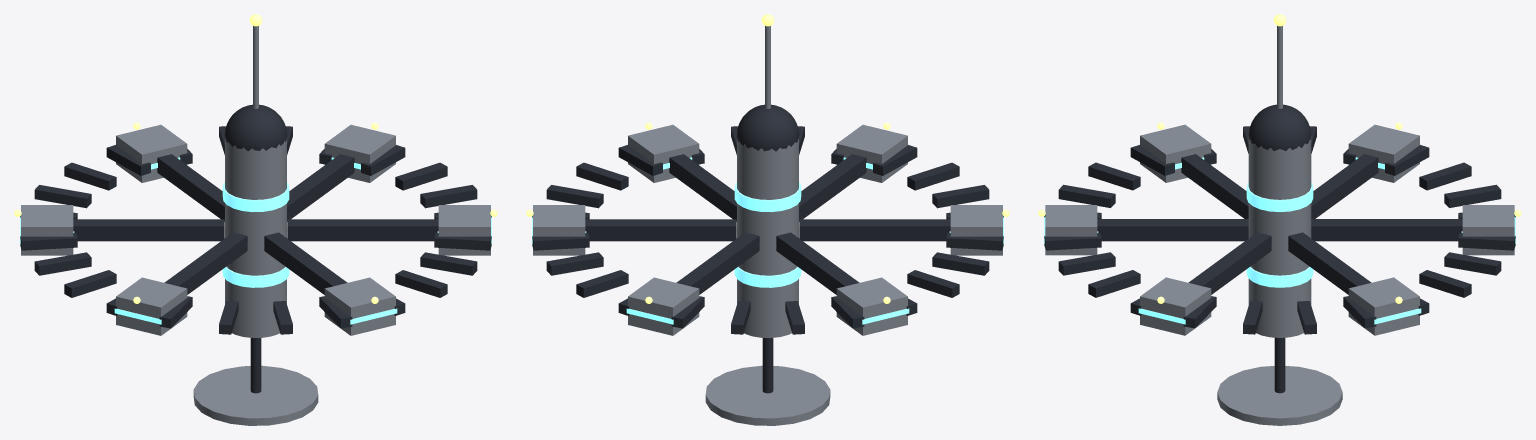
The model's file is kepler_station.glb.
3 views of the same model, side by side, from view 1: azimuth 30°, elevation 25°; view 2: azimuth 150°, elevation 25°; view 3: azimuth 270°, elevation 25° (orthographic).
Parts seen in each view (by area): view 1: hub, dish, arm2, arm5, pod0, pod1, dome, pod3, pod4, pod2, pod5, arm0 (+23 smaller); view 2: hub, dish, arm1, arm4, pod2, pod3, dome, pod0, pod5, pod1, pod4, arm2 (+23 smaller); view 3: hub, dish, arm0, arm3, pod4, pod5, dome, pod1, pod2, pod0, pod3, arm4 (+23 smaller).
Boxes of the visible parts, x1,y1,x2,y2 form: hub: [225, 138, 286, 337]; dish: [193, 365, 318, 425]; arm2: [73, 219, 224, 241]; arm5: [287, 219, 438, 241]; pod0: [324, 277, 395, 335]; pod1: [116, 277, 187, 335]; dome: [224, 104, 287, 151]; pod3: [116, 124, 187, 182]; pod4: [324, 124, 395, 182]; pod2: [21, 205, 73, 255]; pod5: [438, 205, 490, 255]; arm0: [264, 232, 347, 294]; hub: [737, 138, 798, 337]; dish: [705, 365, 830, 425]; arm1: [799, 219, 950, 241]; arm4: [585, 219, 736, 241]; pod2: [836, 277, 907, 335]; pod3: [628, 277, 699, 335]; dome: [736, 104, 799, 151]; pod0: [836, 124, 907, 182]; pod5: [628, 124, 699, 182]; pod1: [950, 205, 1002, 255]; pod4: [533, 205, 585, 255]; arm2: [776, 232, 859, 294]; hub: [1248, 136, 1311, 337]; dish: [1217, 366, 1342, 425]; arm0: [1097, 219, 1248, 241]; arm3: [1311, 219, 1462, 241]; pod4: [1348, 277, 1419, 335]; pod5: [1140, 277, 1211, 335]; dome: [1248, 104, 1311, 150]; pod1: [1140, 124, 1211, 182]; pod2: [1348, 124, 1419, 182]; pod0: [1045, 205, 1097, 255]; pod3: [1462, 205, 1514, 255]; arm4: [1288, 232, 1371, 294].
Size of the model in its own units: 45.17 by 40.7 by 46.3.
